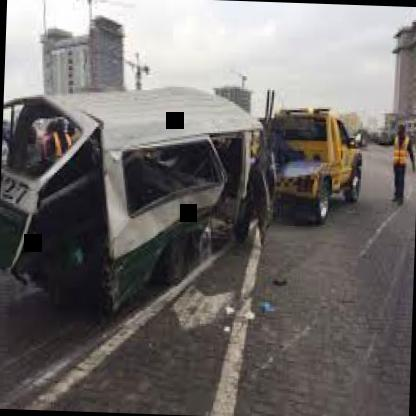accident: (0, 78, 372, 325)
